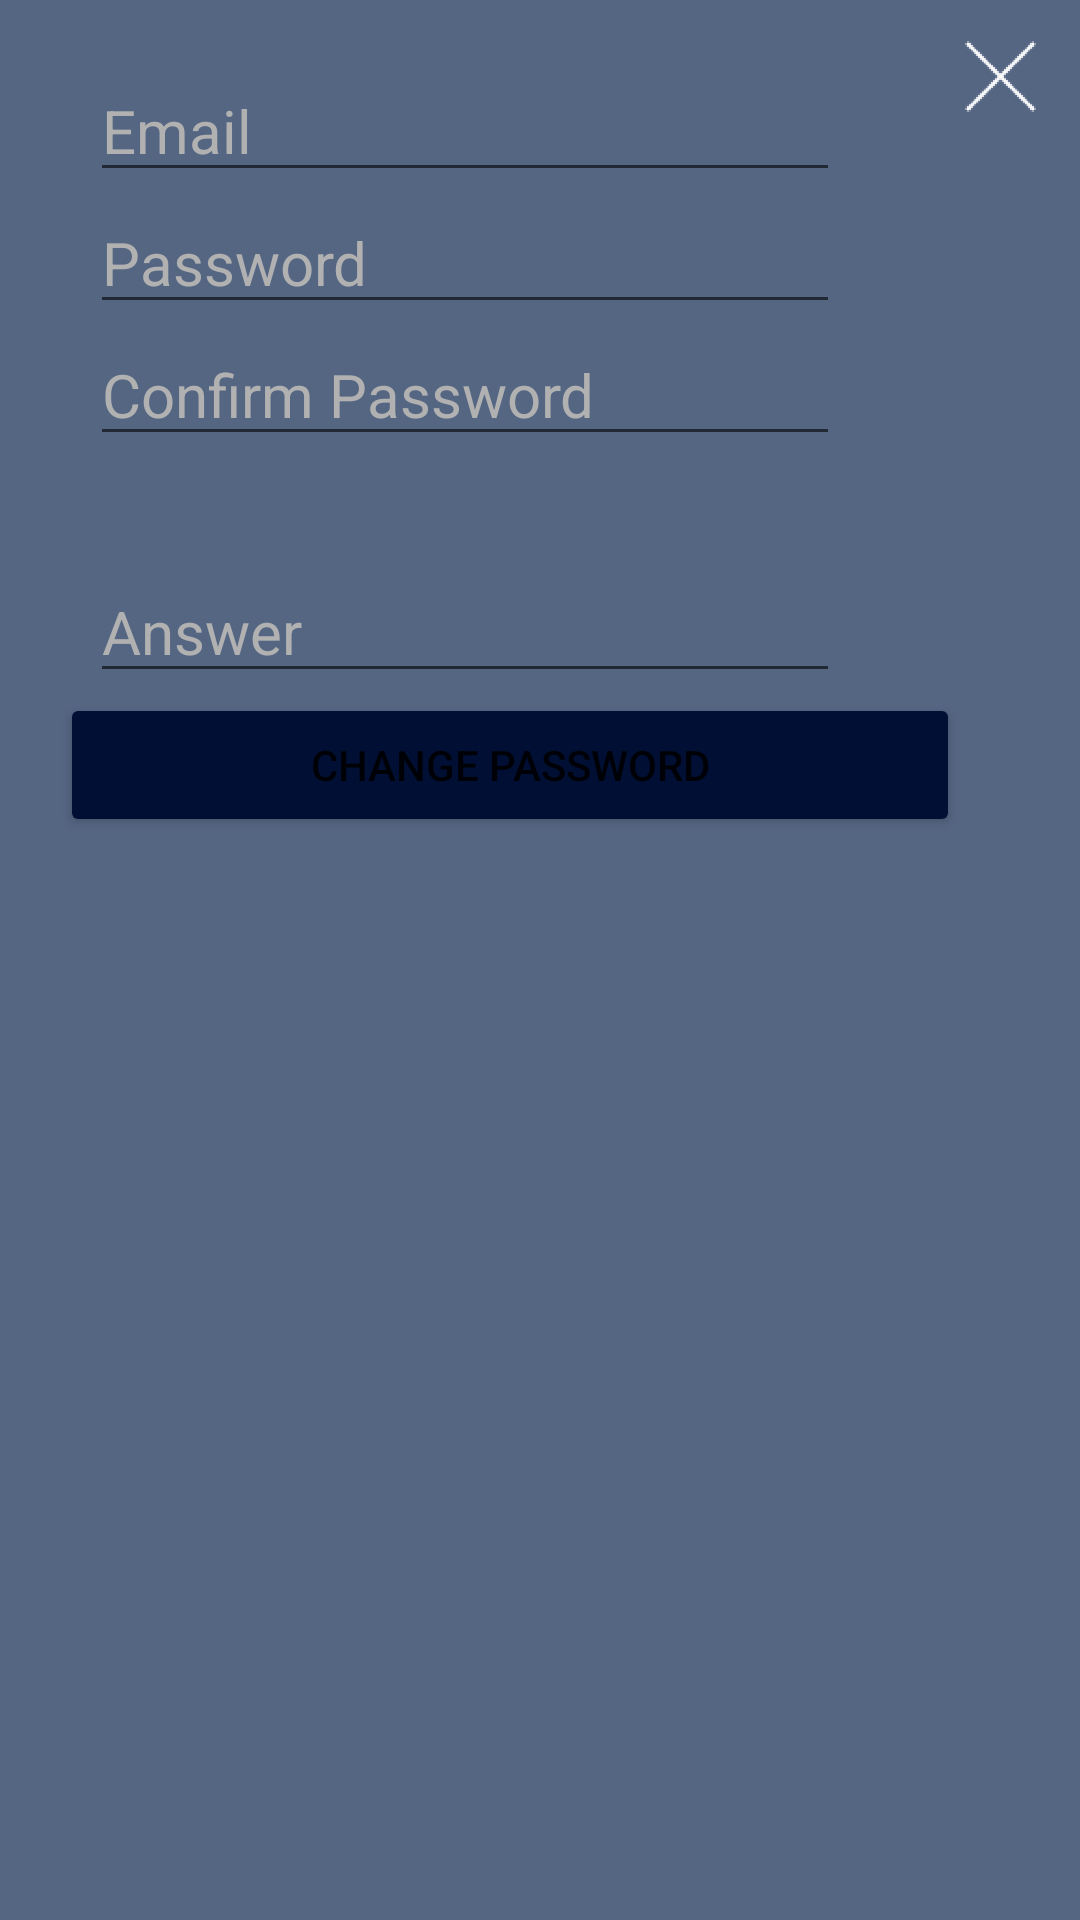

Icon bounding boxes for this 1080 x 1920 phone screenshot, format {"x1": x1, "y1": y1, "x2": x2, "y2": y2}:
close: {"x1": 965, "y1": 41, "x2": 1036, "y2": 112}
